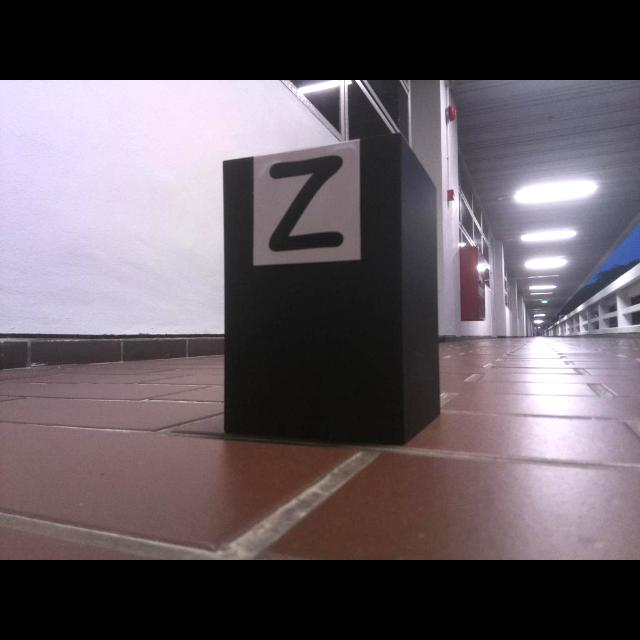Z: (270, 156, 343, 251)
